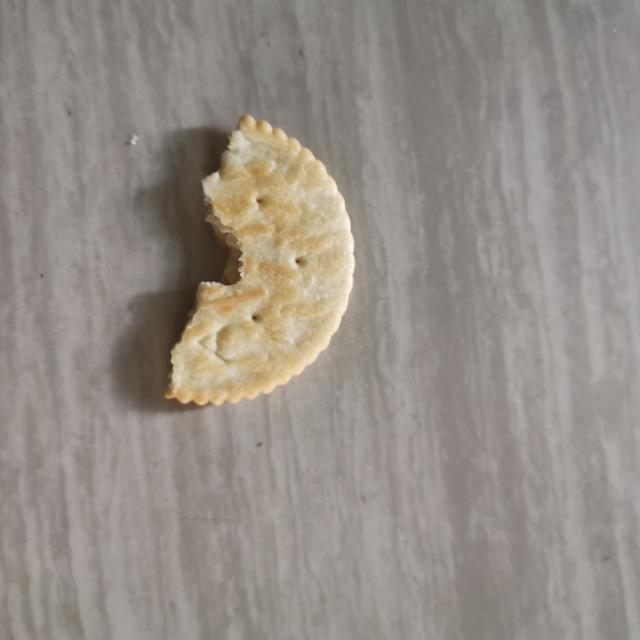Broken: (164, 113, 356, 407)
